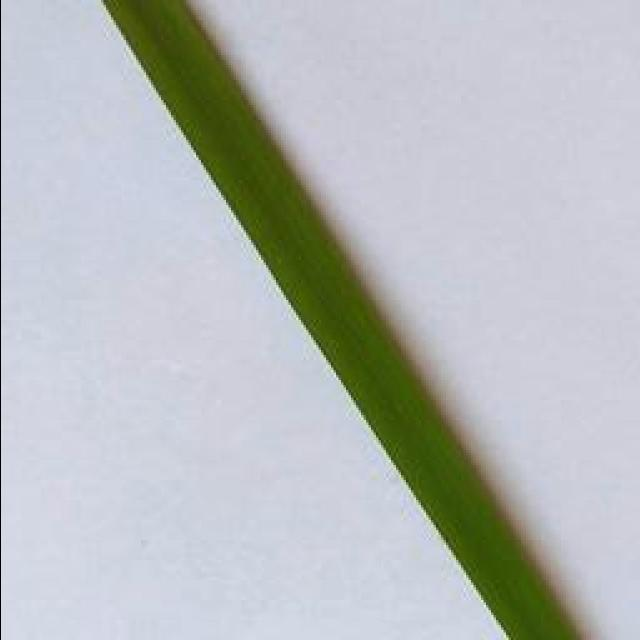Healthy: (102, 0, 577, 640)
